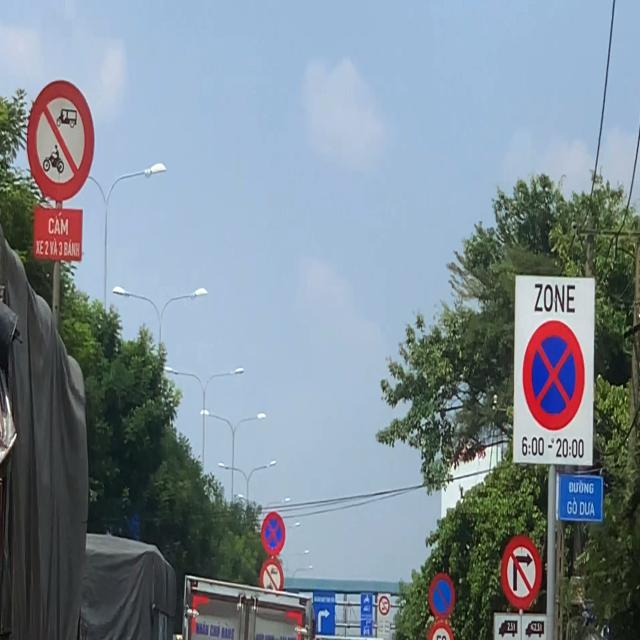Cam con lai: (26, 80, 95, 202), (260, 557, 284, 593), (378, 594, 390, 616)
Cam do: (429, 573, 455, 620)
Cam dung va do: (522, 320, 585, 431), (261, 512, 286, 555)
Cam re phai: (501, 535, 542, 610)
Toc do toi da: (427, 619, 455, 640)
